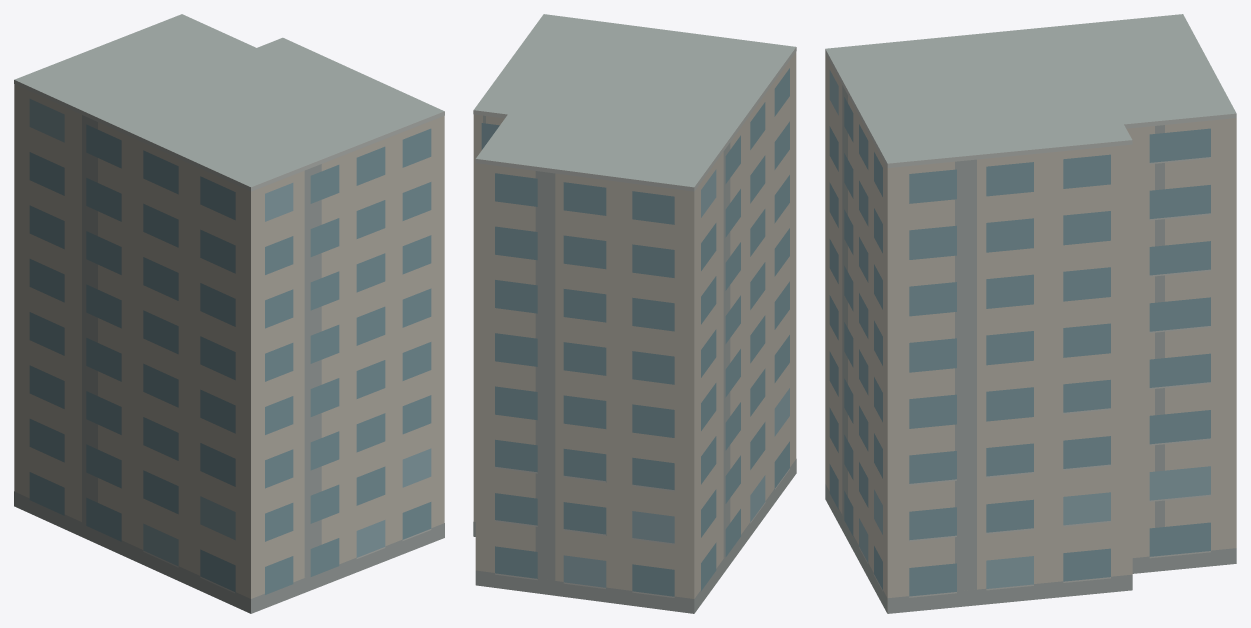
Rendered from survey-upis-32803447.glb.
The picture shows the model from 3 angles, left to right: view 1: azimuth 30°, elevation 25°; view 2: azimuth 150°, elevation 25°; view 3: azimuth 270°, elevation 25°; orthographic projection. The views are drawn at different scales.
Visible parts, largest first — view 1: survey-upis-32803447.tmp; view 2: survey-upis-32803447.tmp; view 3: survey-upis-32803447.tmp.
Part boxes in pixels (box(x1,y1,x2,y2)): survey-upis-32803447.tmp: box(14, 14, 444, 613); survey-upis-32803447.tmp: box(473, 14, 796, 613); survey-upis-32803447.tmp: box(825, 14, 1236, 613).
Bounding box in the file's own units: 17.4 × 24.4 × 20.22.
